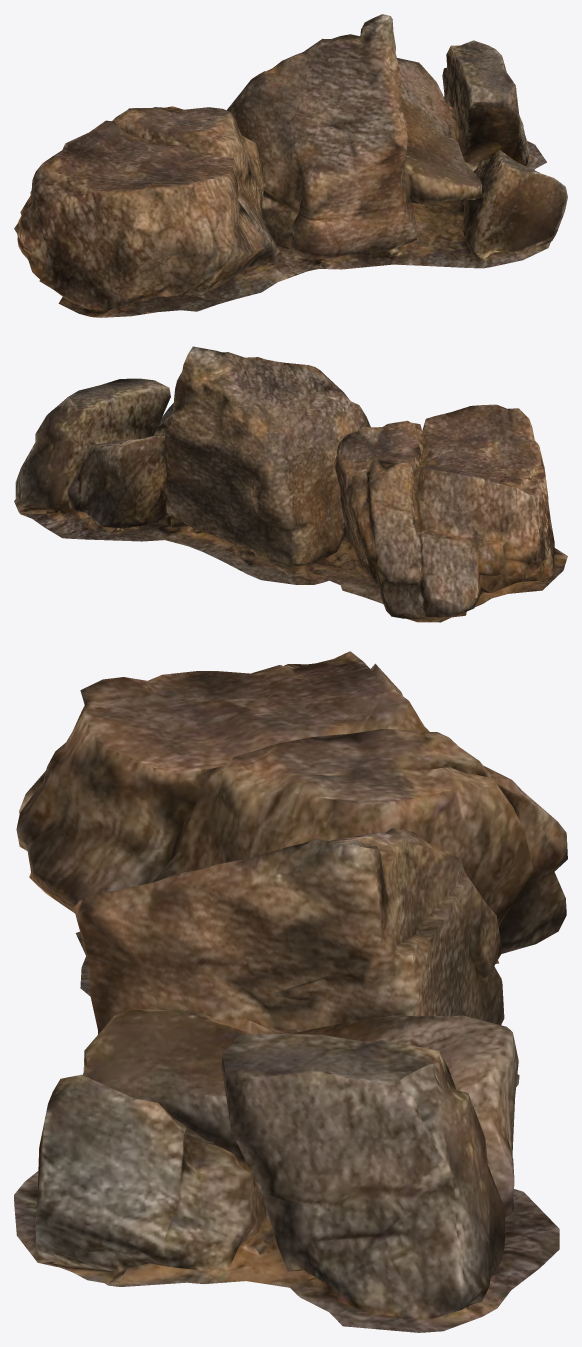
Rendered from namaqualand_boulder_02.glb.
3 views of the same model, one above another, from view 1: azimuth 30°, elevation 25°; view 2: azimuth 150°, elevation 25°; view 3: azimuth 270°, elevation 25° (orthographic). The views are drawn at different scales.
Visible parts, largest first — view 1: boulder_02; view 2: boulder_02; view 3: boulder_02.
Boxes of the visible parts, x1,y1,x2,y2 form: boulder_02: (14,14,567,317); boulder_02: (14,346,567,622); boulder_02: (14,651,567,1332).
Size of the model in its own units: 2.52 by 0.8788 by 1.23.
Materials: 1 (1 with a texture image).
